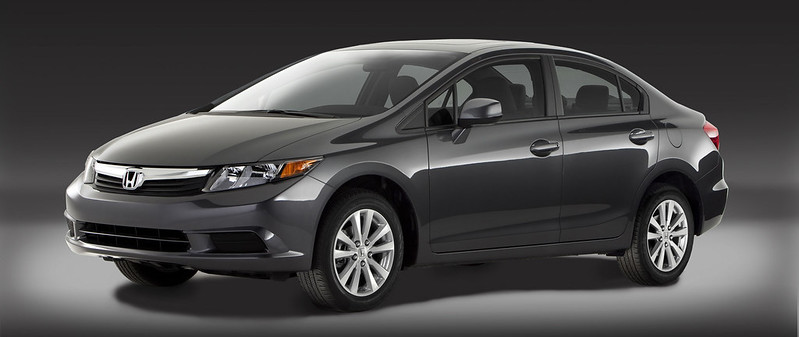car: (61, 33, 733, 315)
